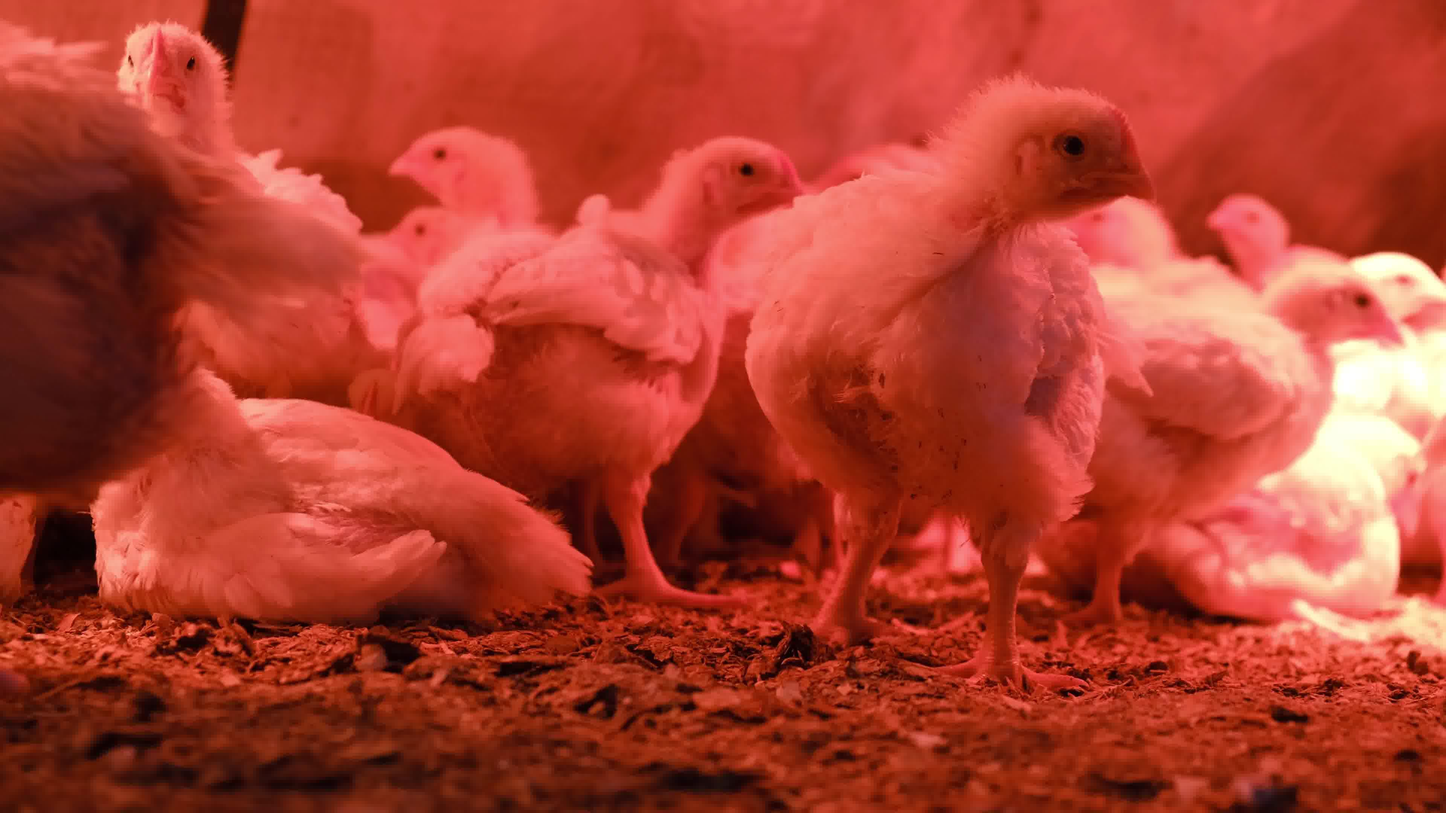AbNormal: (93, 380, 592, 624), (1045, 426, 1433, 617)
Normal: (742, 79, 1160, 699), (369, 136, 810, 608), (2, 14, 424, 477), (1019, 264, 1405, 619), (111, 21, 361, 402), (383, 121, 533, 223), (1202, 190, 1304, 273), (1350, 254, 1446, 327)
